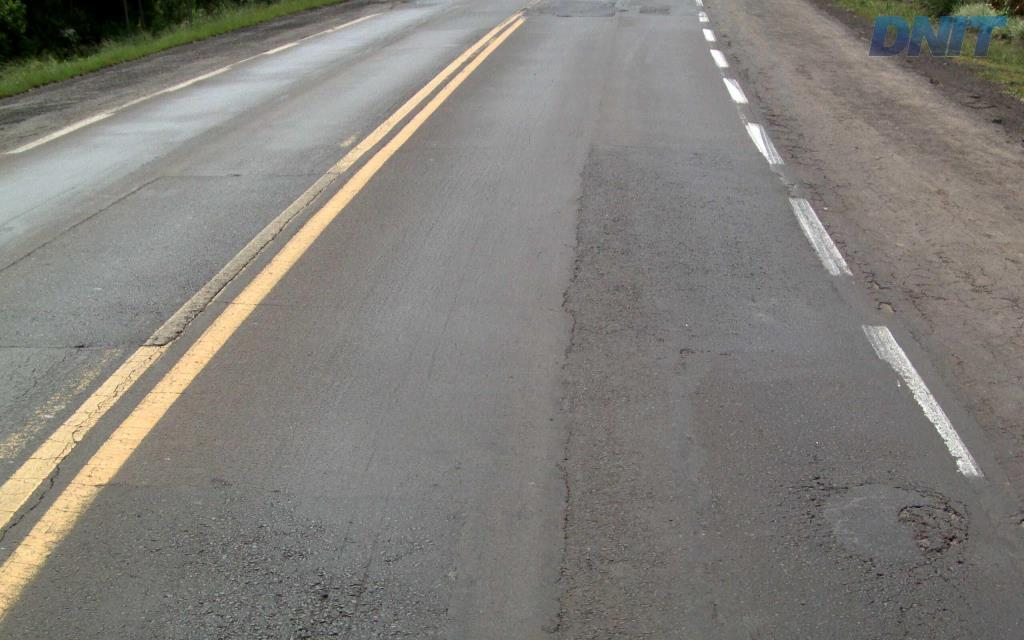crack: (907, 516, 958, 573)
